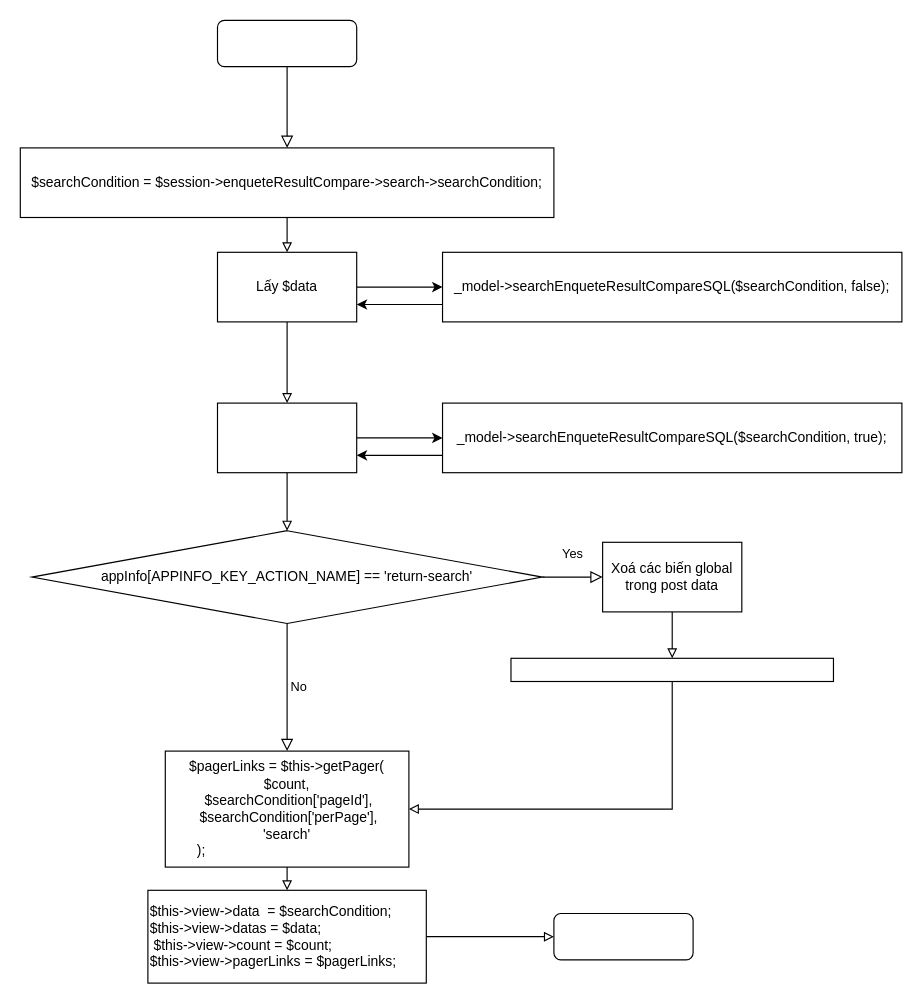
Some shapes in this 922 by 1003 pixel diagram are drawn without their labels. The centre of each missing label's shape, as x and y in pixels:
$this->addGlobalPostValue($searchCondition);: [671,669]
Bắt đầu: [286,43]
Kết thúc: [623,936]
Lấy $count: [286,437]
